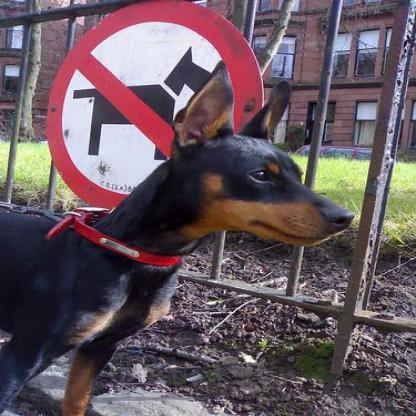miniature_pinscher: (0, 58, 357, 414)
